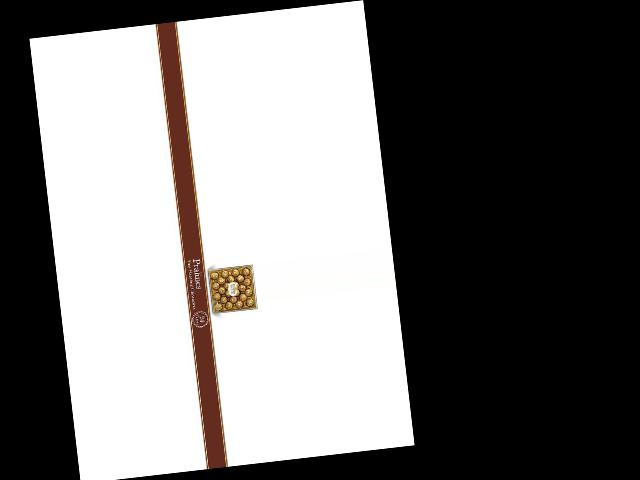chocolate: (205, 262, 261, 317)
